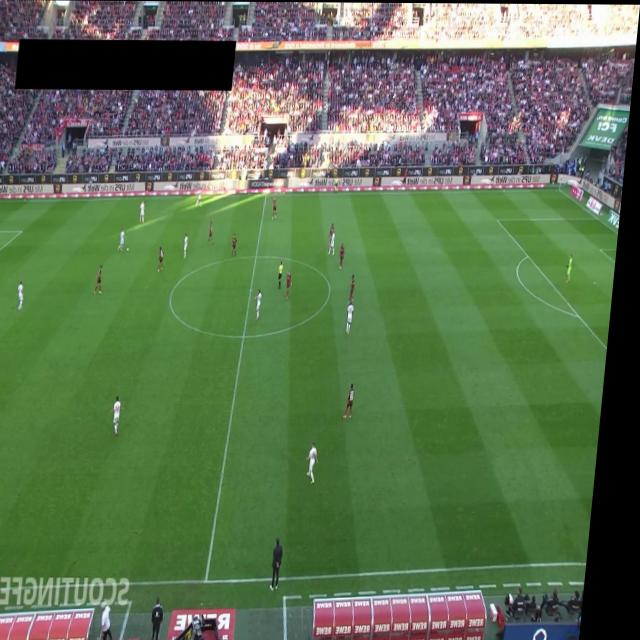goalkeeper: (570, 252, 578, 282)
player: (313, 440, 329, 483), (118, 394, 130, 436), (350, 382, 363, 419), (99, 264, 111, 296), (351, 298, 361, 334), (259, 288, 269, 320), (290, 269, 299, 300), (22, 280, 31, 311), (332, 230, 341, 255), (332, 222, 340, 250), (354, 273, 361, 301), (123, 227, 131, 251), (163, 246, 170, 272), (236, 232, 243, 257), (213, 220, 220, 244), (344, 242, 350, 269), (143, 200, 150, 223), (276, 197, 283, 219), (199, 189, 207, 207), (188, 232, 193, 258)
referee: (282, 259, 289, 288), (337, 174, 342, 193)
